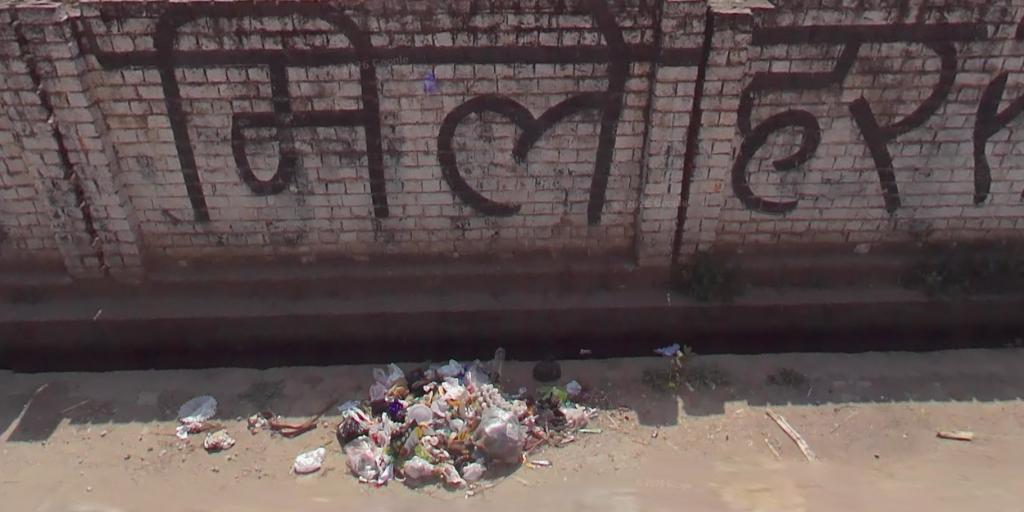garbage: (460, 408, 528, 467), (341, 439, 393, 489), (288, 441, 330, 482), (173, 394, 220, 430)
